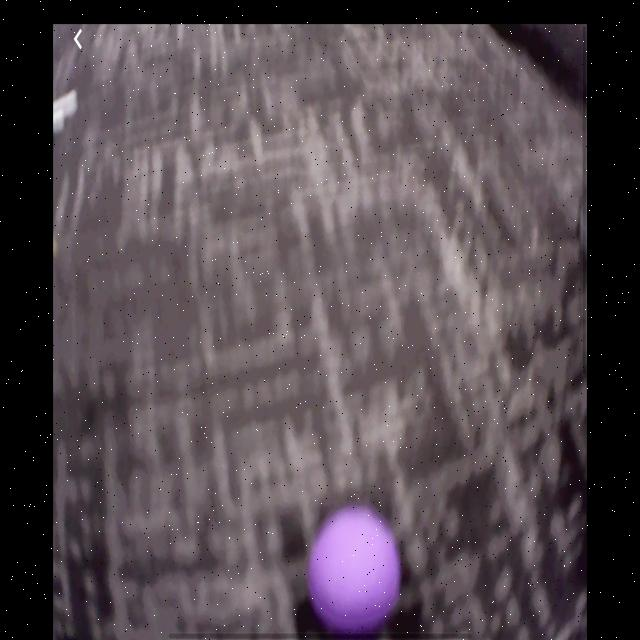ball: (310, 509, 401, 636)
